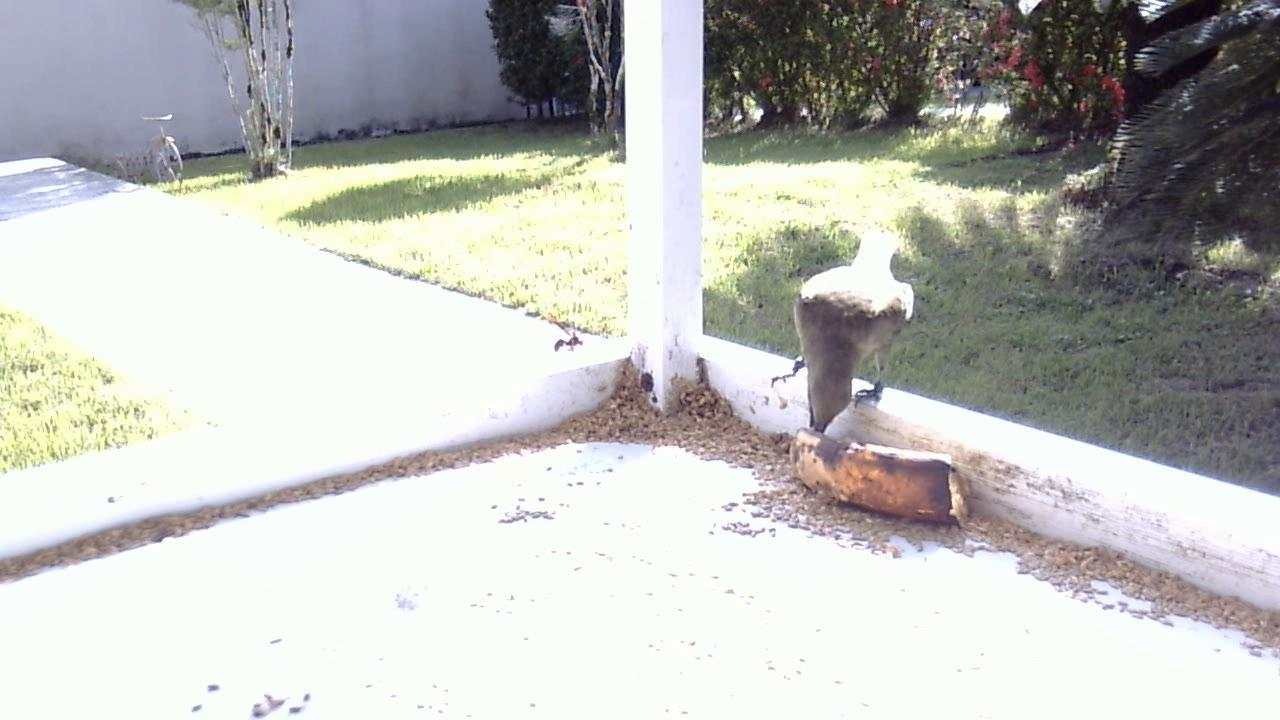sanhaco_do_coqueiro: (766, 228, 926, 450)
